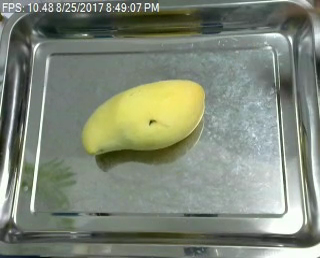Mango: (80, 76, 210, 162)
